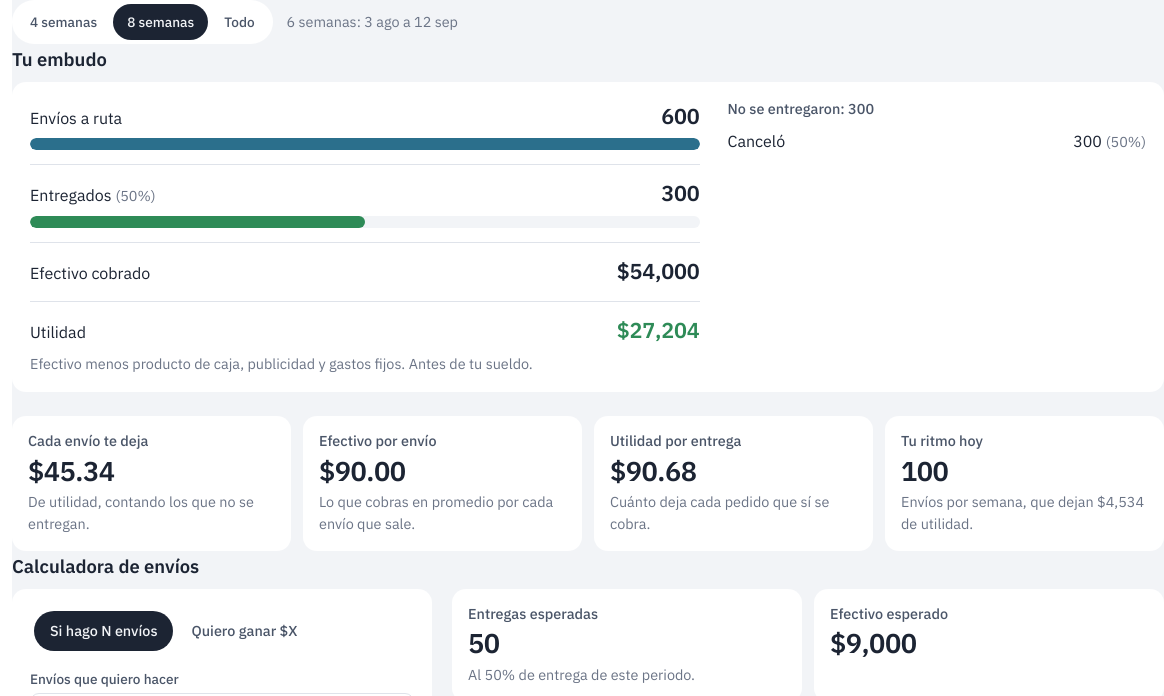
Test case: <Embudo /> › el periodo cambia cuántas semanas se cuentan
Expected: the text "6 semanas: 3 ago a 12 sep" is shown, [287,11,458,33]
Click the button "4 semanas": (64, 22) [16,4,111,40]
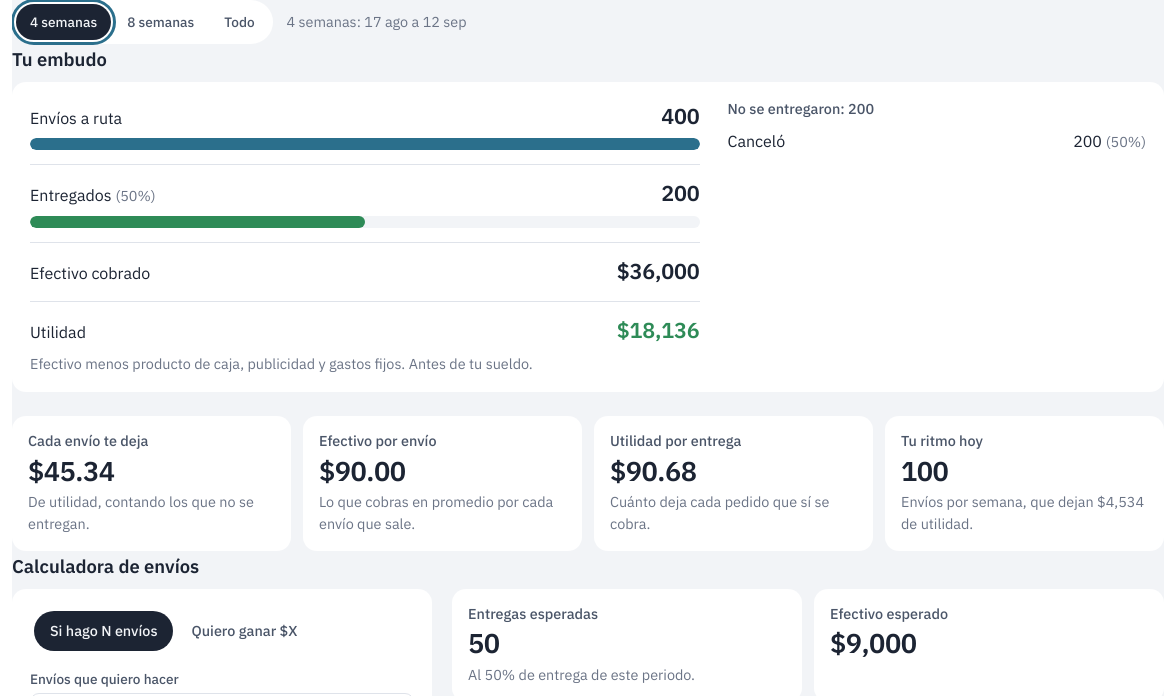
Expected: the text "4 semanas: 17 ago a 12 sep" is shown, [287,11,467,33]
